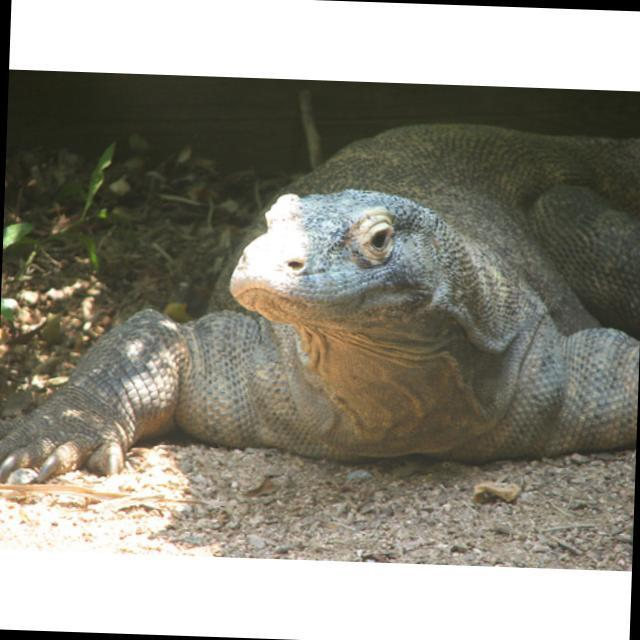KomodoDragon: (0, 105, 640, 504)
